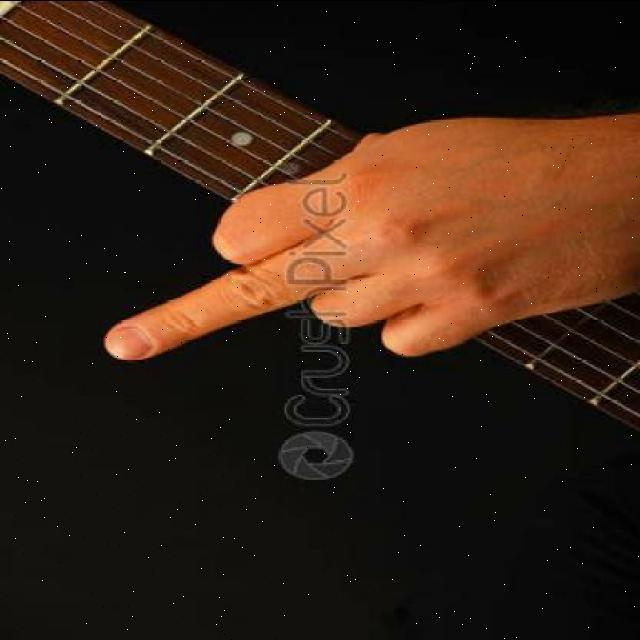no_apron: (76, 106, 558, 412)
